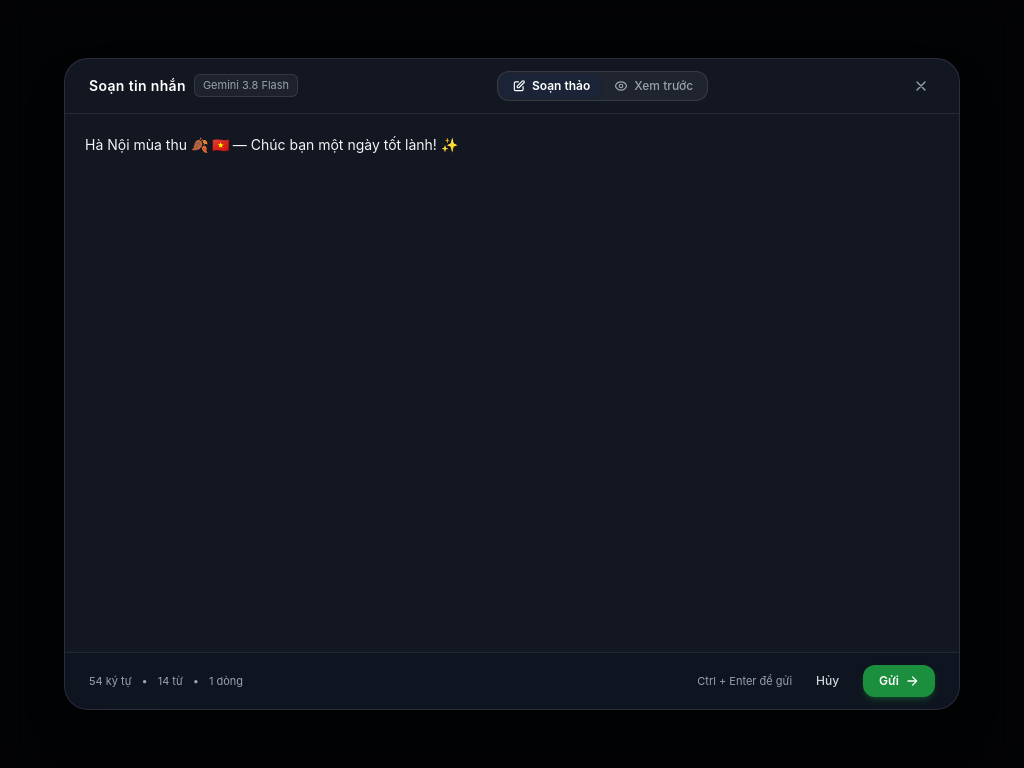
Test case: ExpandedEditorModal Component › 5. should correctly render Vietnamese Unicode and emojis in preview
The width and height of the screenshot is (1024, 768).
Step 1. Click the tab "Xem trước" → click(654, 86), box [602,74,705,98]
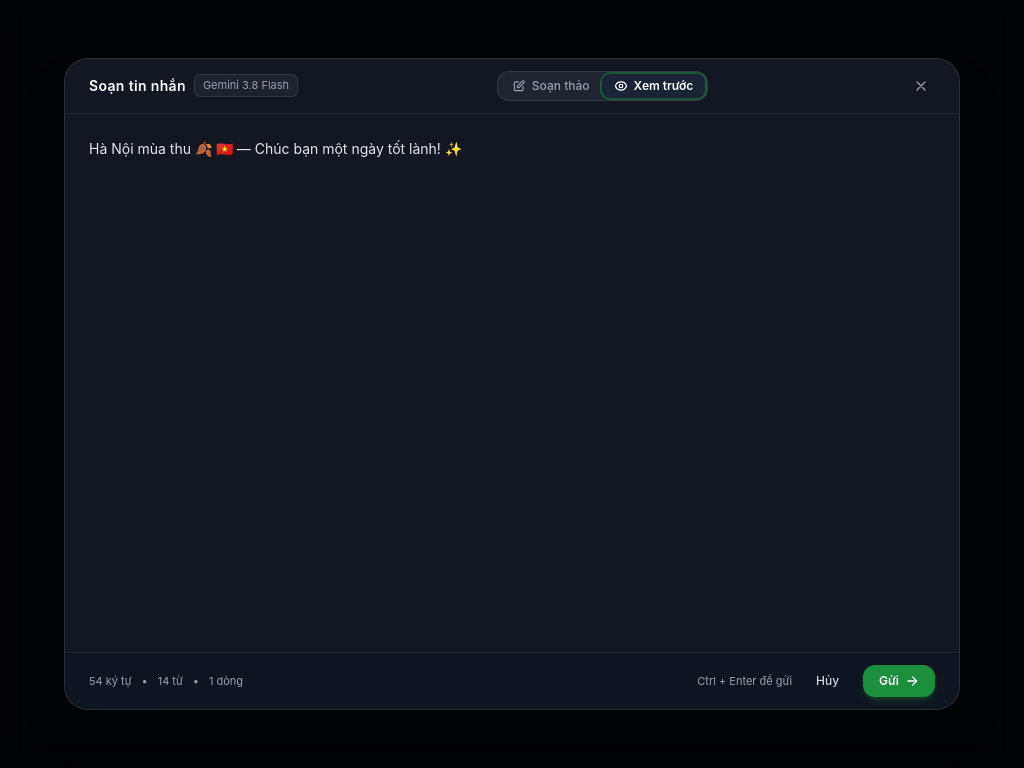
expect the text "Hà Nội mùa thu 🍂 🇻🇳 — Chúc bạn một ngày tốt lành! ✨" is shown: met, box [89,140,462,157]
